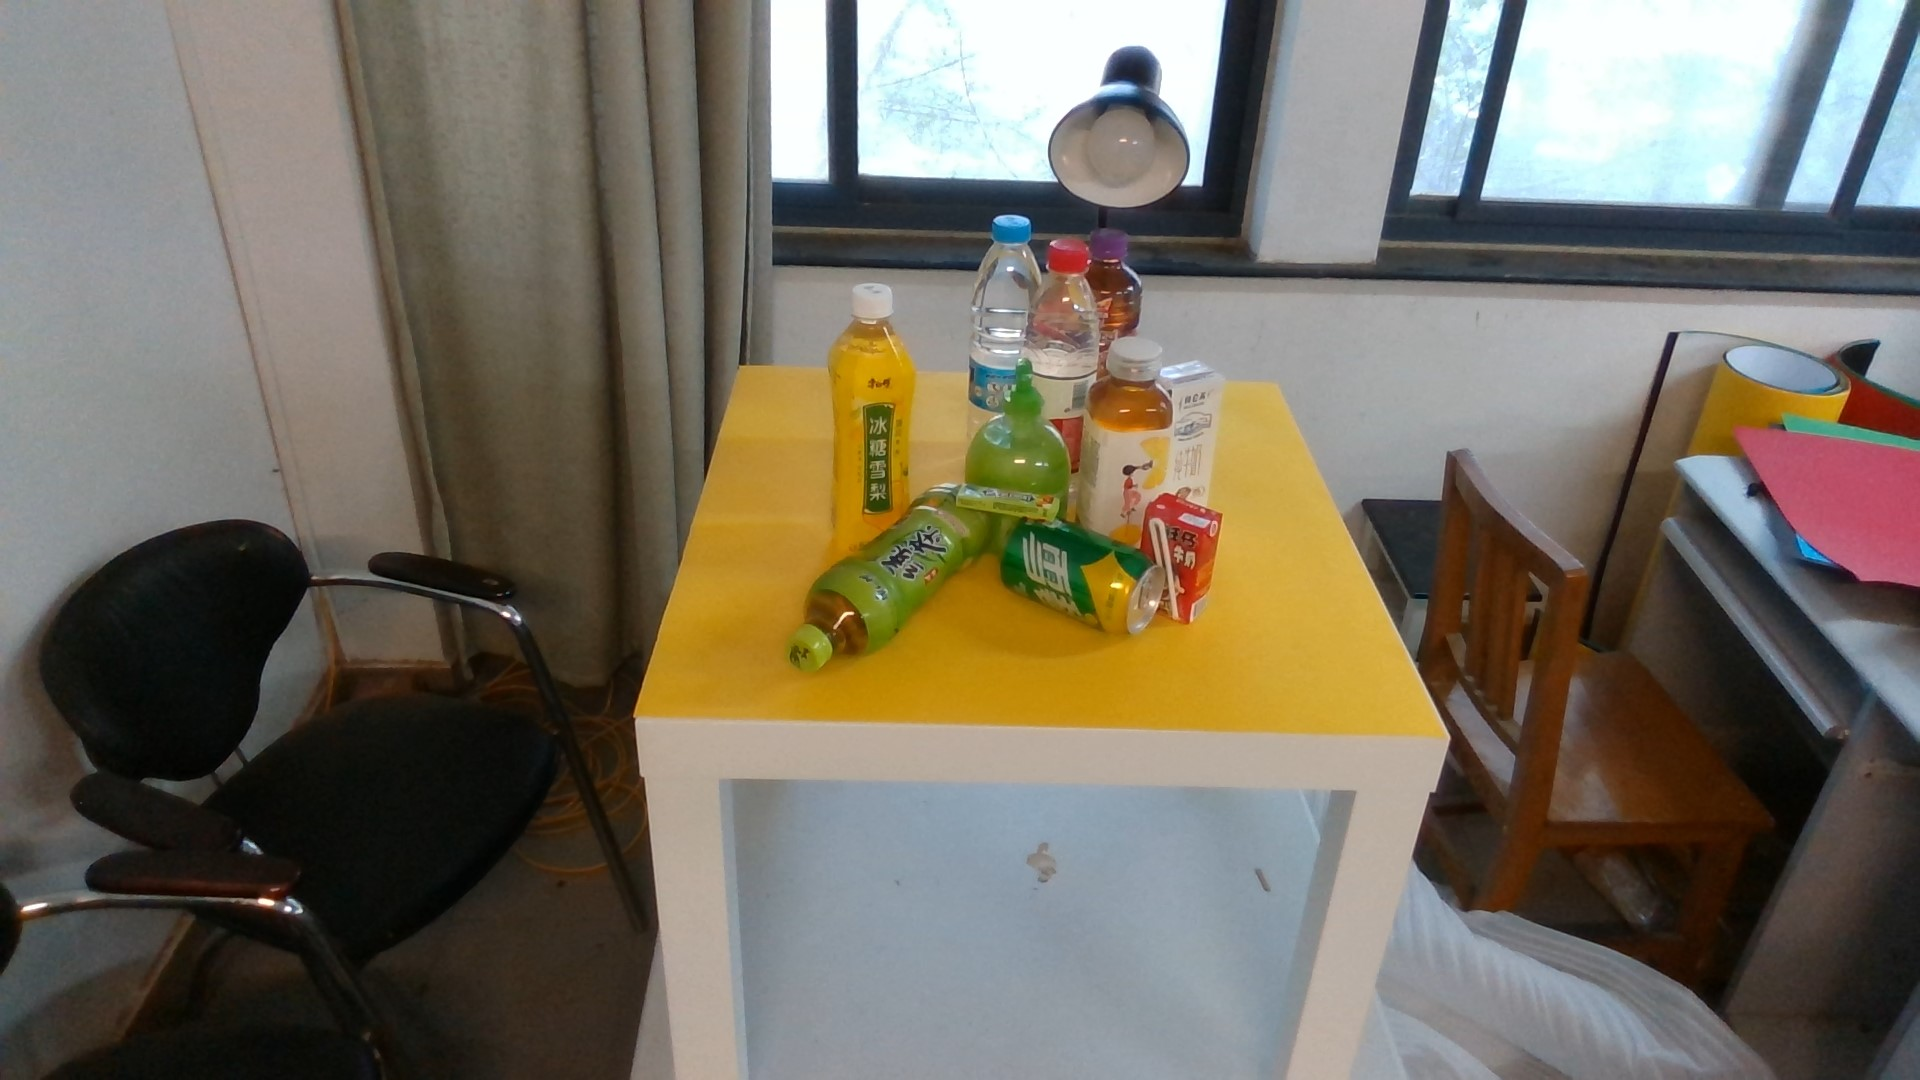BB002: (955, 480, 1062, 520)
BB010: (790, 509, 986, 666), (1174, 353, 1218, 489)
BB012: (1168, 492, 1222, 625)
ZC001: (1000, 517, 1168, 632)
ZC009: (1098, 224, 1141, 332)
ZC011: (825, 281, 913, 510)
ZC012: (1073, 335, 1174, 500)
ZC014: (1036, 235, 1087, 425)
ZC019: (971, 216, 1013, 404)
